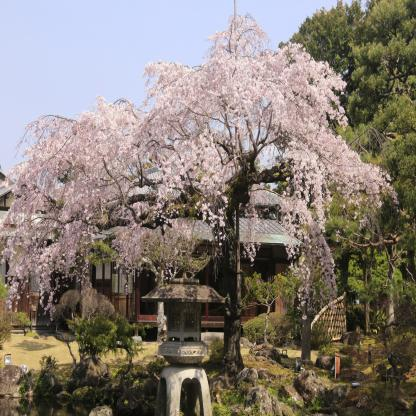ShidareZakura: (1, 13, 399, 338)
